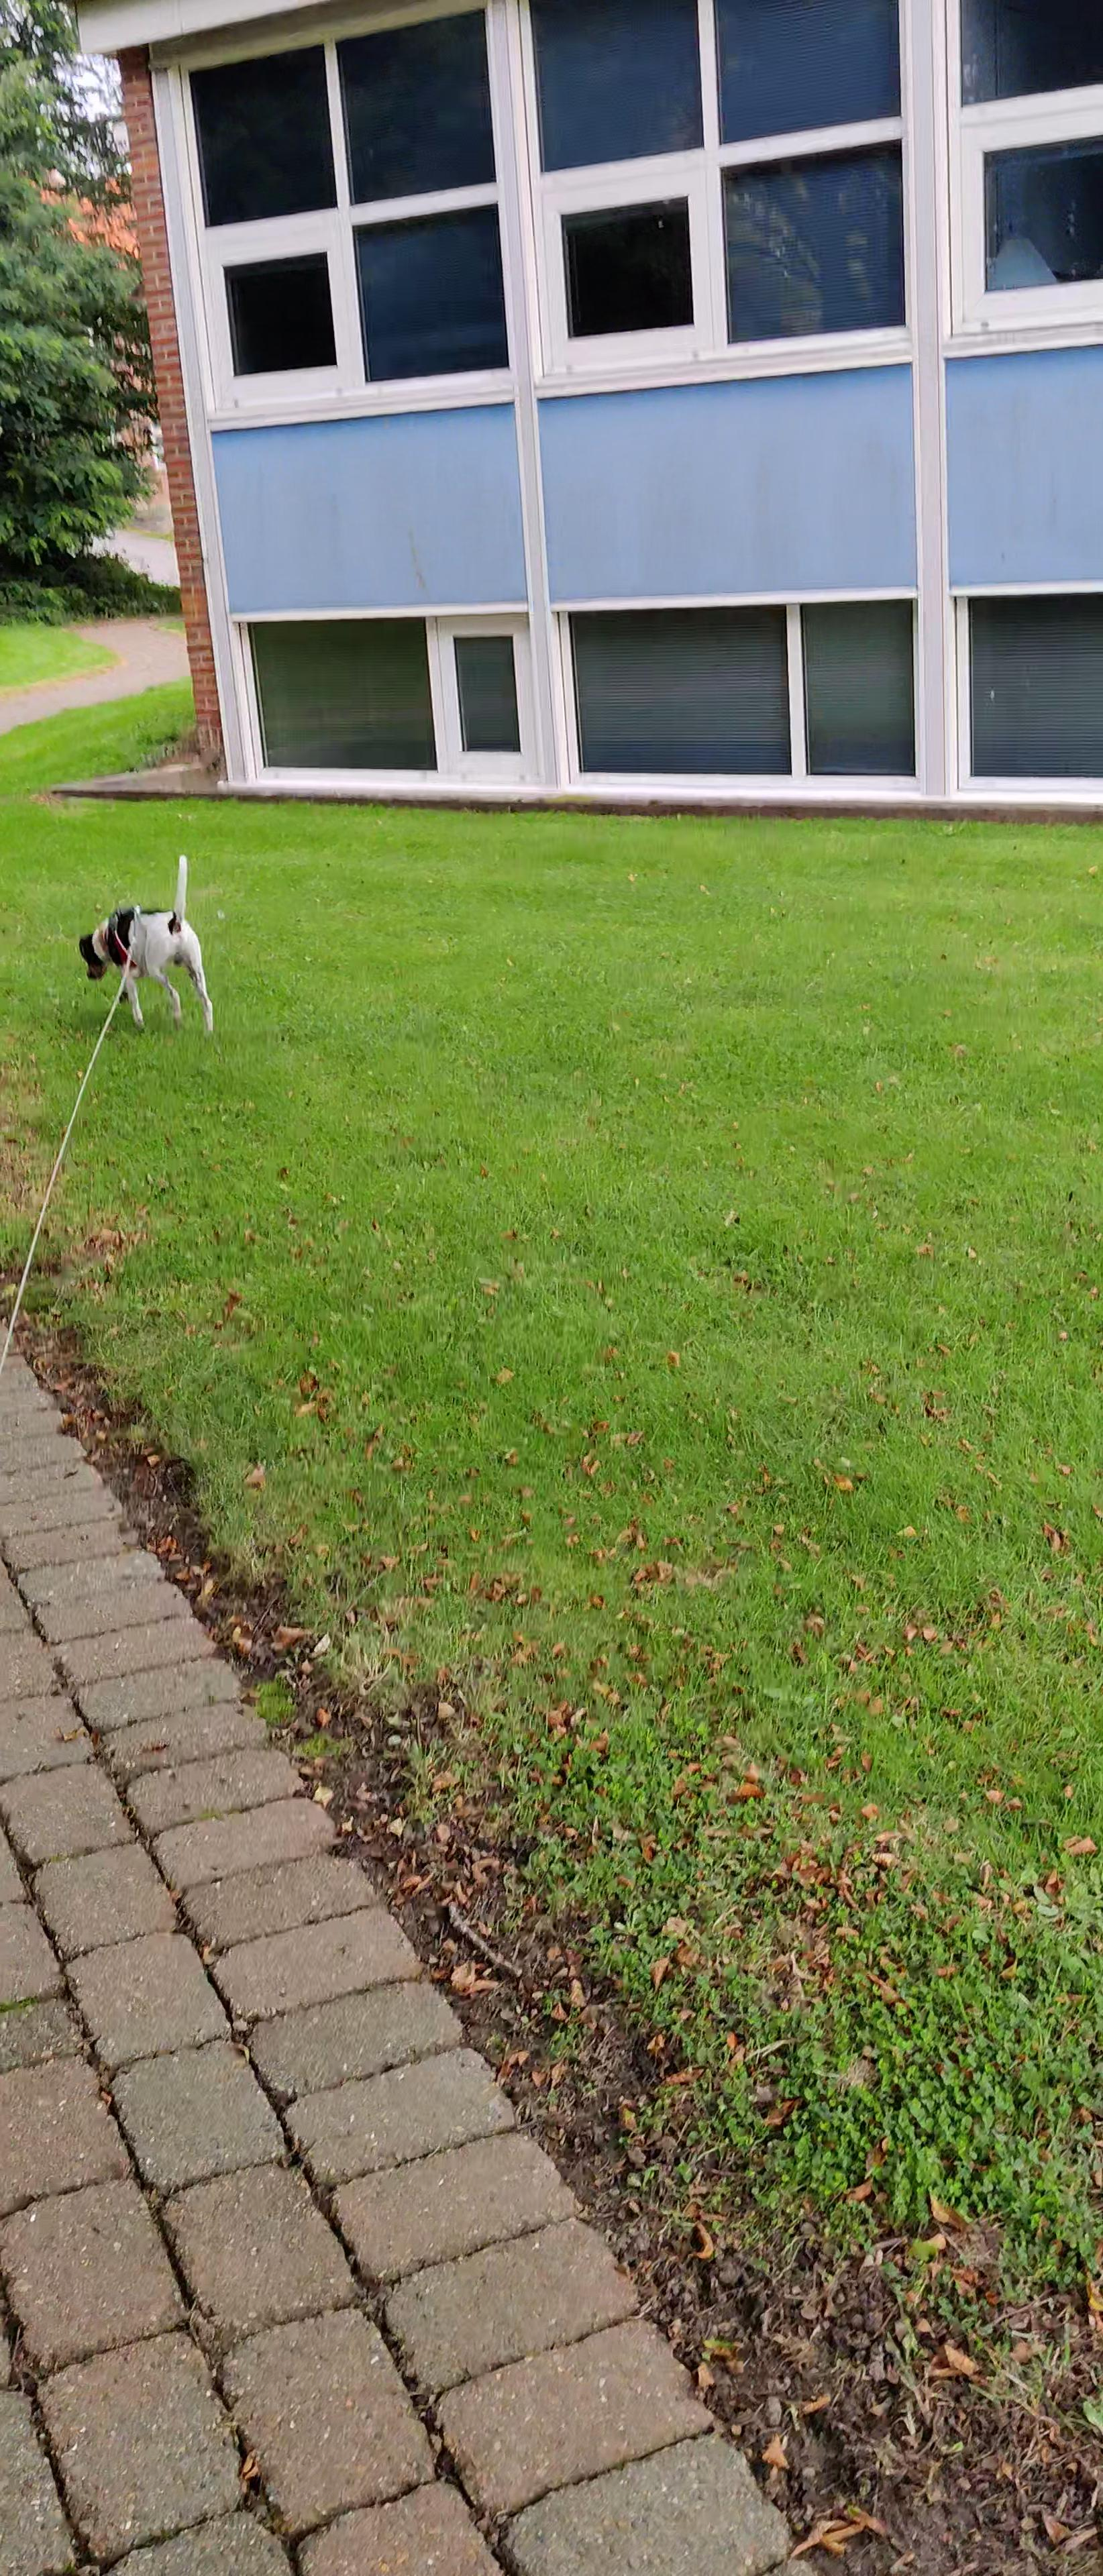Dog: (64, 841, 227, 1042)
